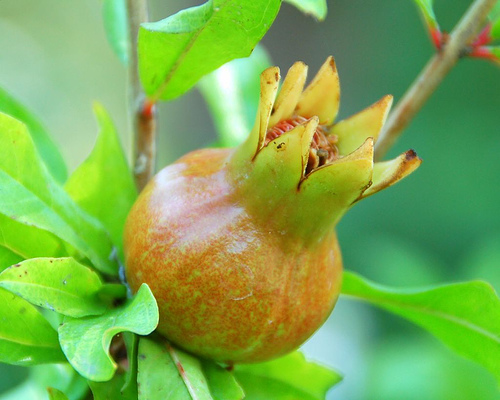pomogranate: (122, 55, 422, 364)
